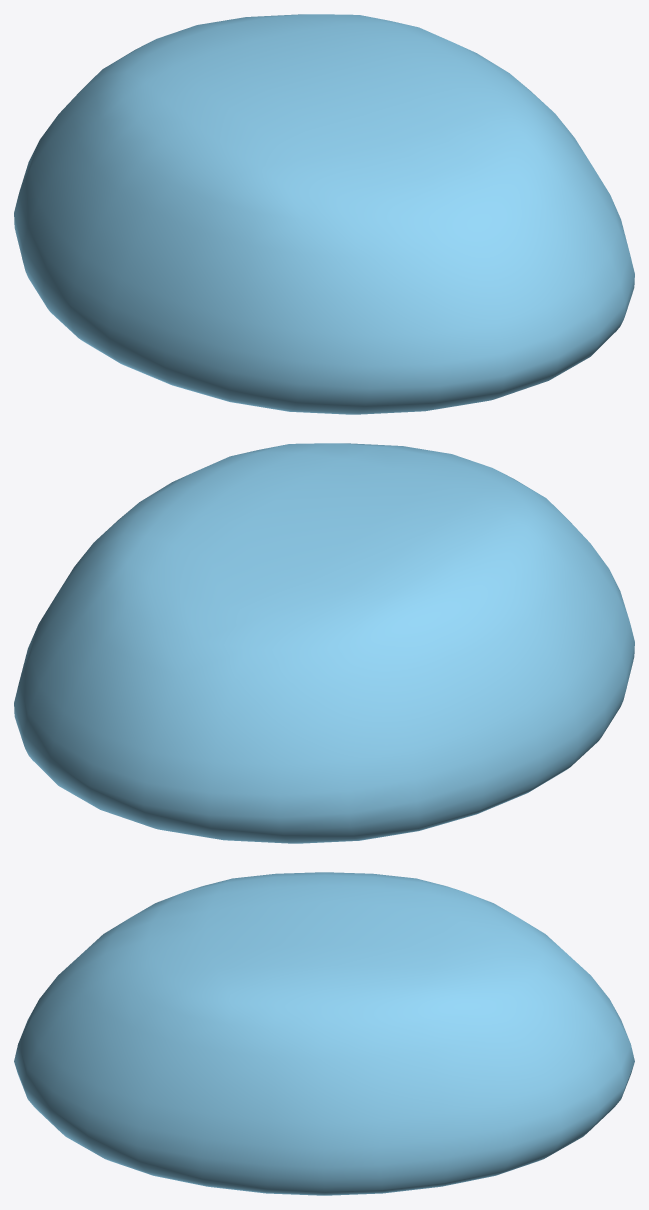
File: SM_20015PedraP.fbx
3 views of the same model, one above another, from view 1: azimuth 30°, elevation 25°; view 2: azimuth 150°, elevation 25°; view 3: azimuth 270°, elevation 25° (orthographic). The views are drawn at different scales.
Parts seen in each view (by area): view 1: SM_20015PedraP_geo_1; view 2: SM_20015PedraP_geo_1; view 3: SM_20015PedraP_geo_1.
Part boxes in pixels (left/top/right/bottom): SM_20015PedraP_geo_1: left=14, top=14, right=634, bottom=414; SM_20015PedraP_geo_1: left=14, top=443, right=634, bottom=843; SM_20015PedraP_geo_1: left=14, top=872, right=634, bottom=1195.
Size of the model in its own units: 6.89 by 2.61 by 8.5.
